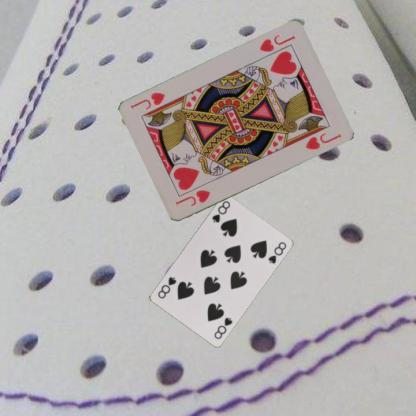8s: (209, 198, 232, 224), (212, 314, 234, 340)
Jh: (256, 32, 296, 54), (172, 187, 212, 208)
